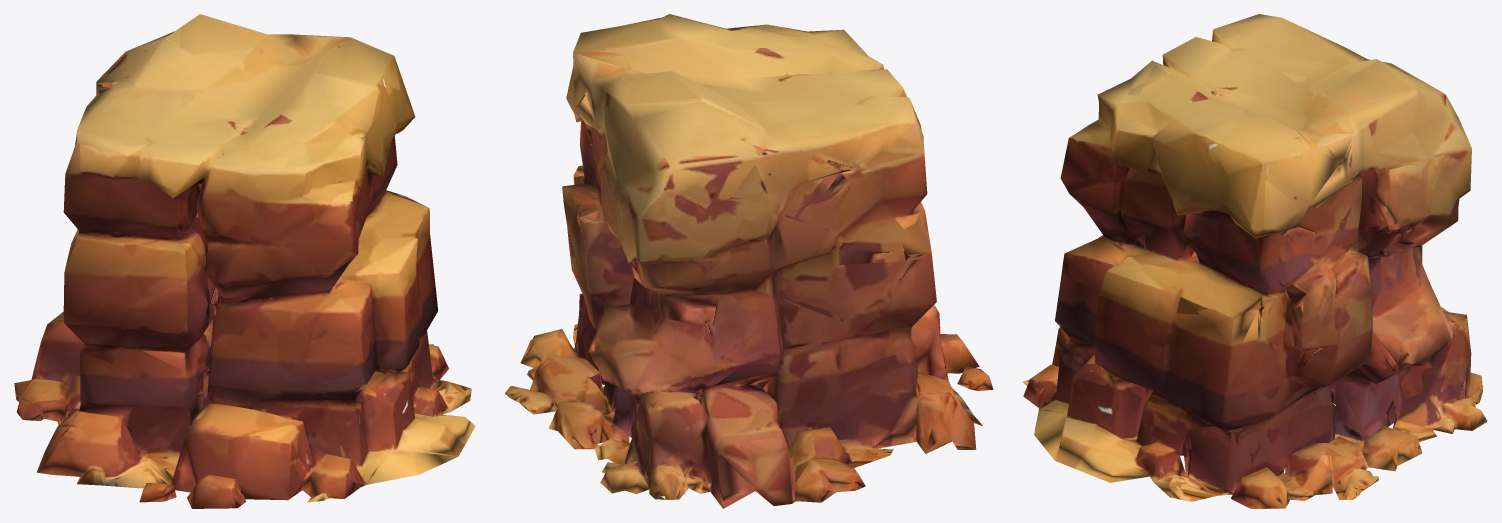
File: cliff_mesa_sand.glb
3 renders of one model, left to right at view 1: azimuth 30°, elevation 25°; view 2: azimuth 150°, elevation 25°; view 3: azimuth 270°, elevation 25°, orthographic. The views are drawn at different scales.
Parts seen in each view (by area): view 1: BakeLow; view 2: BakeLow; view 3: BakeLow.
Boxes of the visible parts, x1=… form: BakeLow: x1=14, y1=14, x2=475, y2=508; BakeLow: x1=504, y1=14, x2=993, y2=508; BakeLow: x1=1022, y1=14, x2=1487, y2=508.
Size of the model in its own units: 0.8427 by 0.6644 by 0.8084.
Materials: 1 (1 with a texture image).
